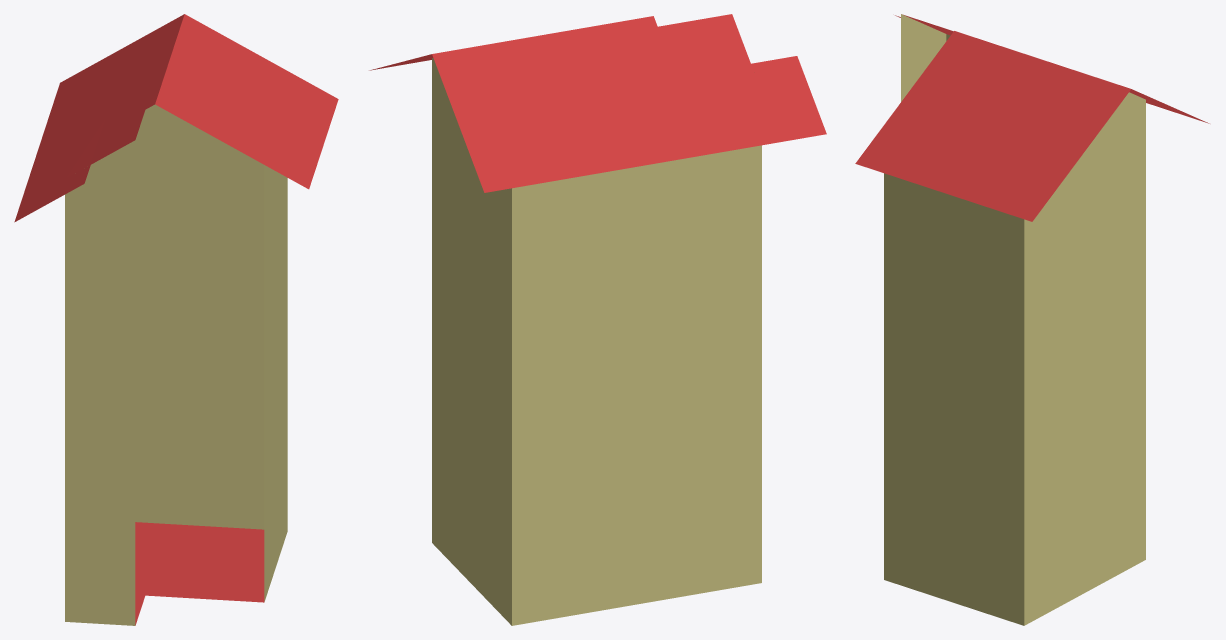
3 views of the same model, side by side, from view 1: azimuth 30°, elevation 25°; view 2: azimuth 150°, elevation 25°; view 3: azimuth 270°, elevation 25° (orthographic). The views are drawn at different scales.
Parts seen in each view (by area): view 1: group_5, group_3, group_6, group_4; view 2: group_5, group_3; view 3: group_5, group_3, group_4.
Part boxes in pixels (x1=…): group_5: x1=65, y1=104, x2=287, y2=625; group_3: x1=14, y1=14, x2=338, y2=222; group_6: x1=135, y1=522, x2=264, y2=625; group_4: x1=277, y1=94, x2=337, y2=185; group_5: x1=432, y1=58, x2=761, y2=625; group_3: x1=369, y1=14, x2=826, y2=192; group_5: x1=884, y1=14, x2=1145, y2=625; group_3: x1=855, y1=14, x2=1209, y2=221; group_4: x1=860, y1=135, x2=1031, y2=221.
Size of the model in its own units: 7.11 by 5.71 by 9.03.
